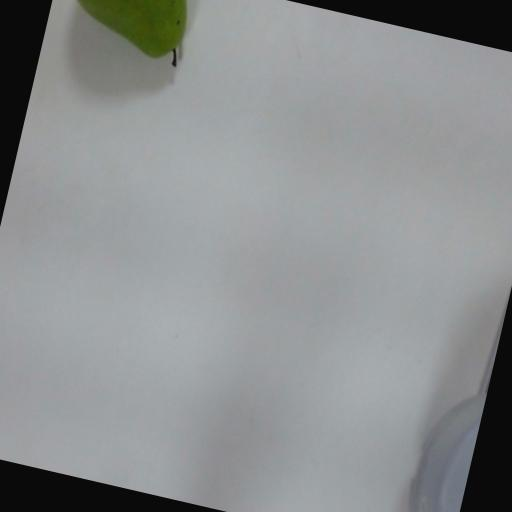Unripe: (49, 0, 240, 86)
